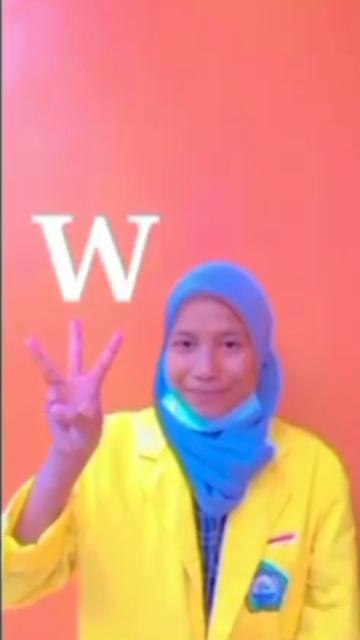W: (19, 314, 126, 464)
